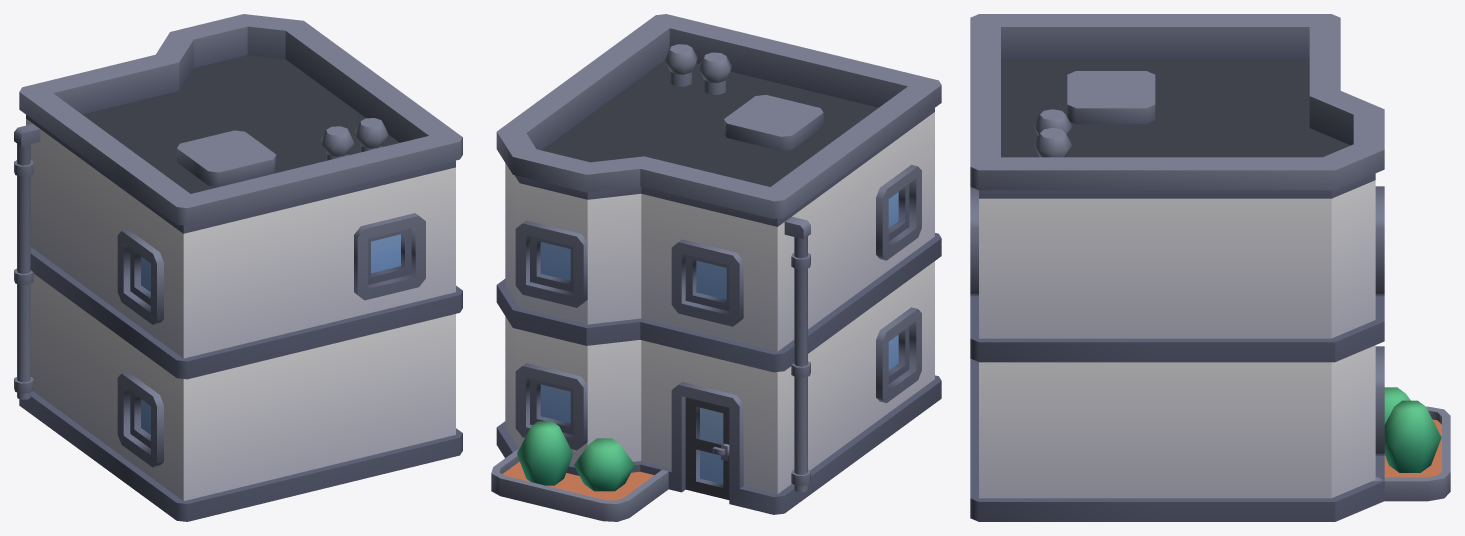
The model's file is city_2.fbx.
The picture shows the model from 3 angles, left to right: view 1: azimuth 30°, elevation 25°; view 2: azimuth 150°, elevation 25°; view 3: azimuth 270°, elevation 25°; orthographic projection. The views are drawn at different scales.
Parts seen in each view (by area): view 1: city_2; view 2: city_2; view 3: city_2.
Part boxes in pixels (bbox=[...]): city_2: bbox=[14, 14, 462, 521]; city_2: bbox=[491, 14, 941, 521]; city_2: bbox=[970, 14, 1450, 521].
Bounding box in the file's own units: 0.8836 × 0.893 × 1.09.
1 material, 1 textured.
